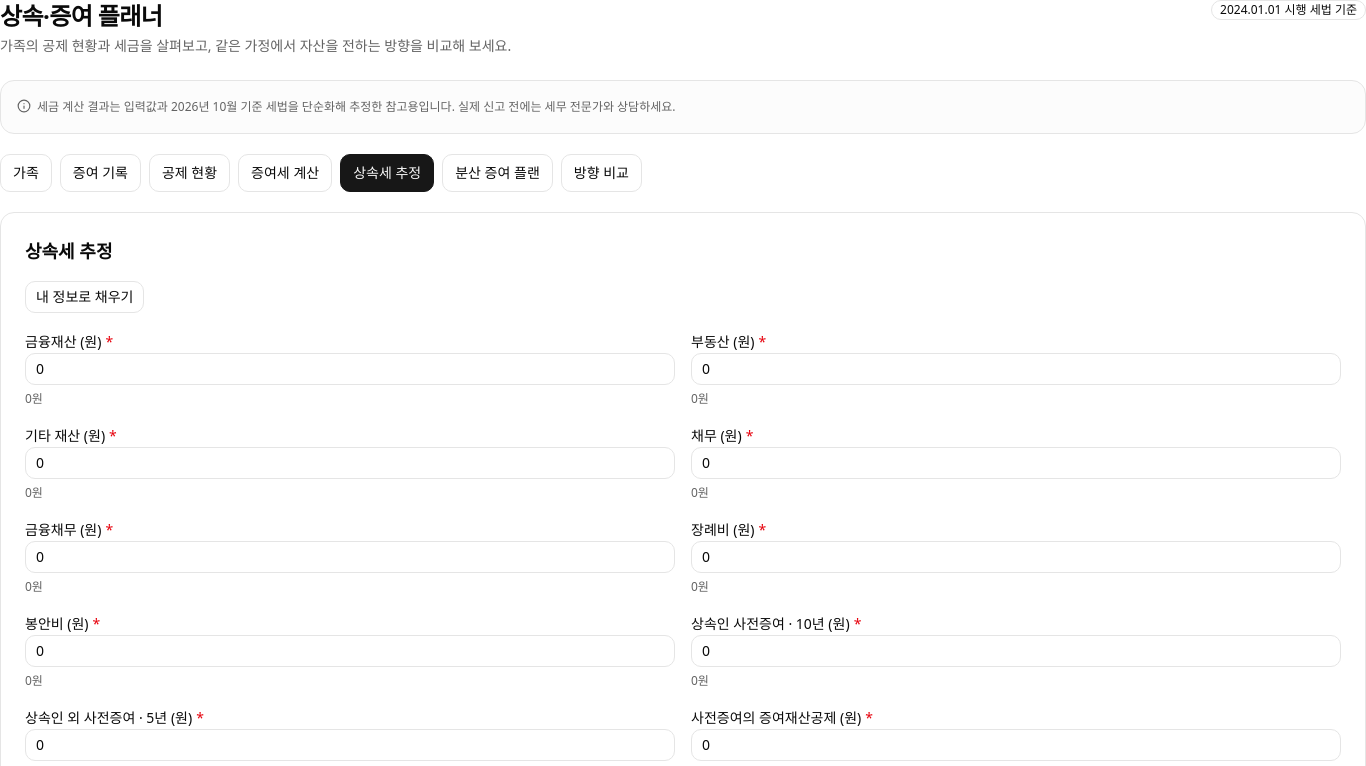
Test: 사전증여가 있는 상속세 사전 채움과 계산 요청
Click the button "내 정보로 채우기": (85, 296) [25, 280, 144, 312]
(page scrolled)
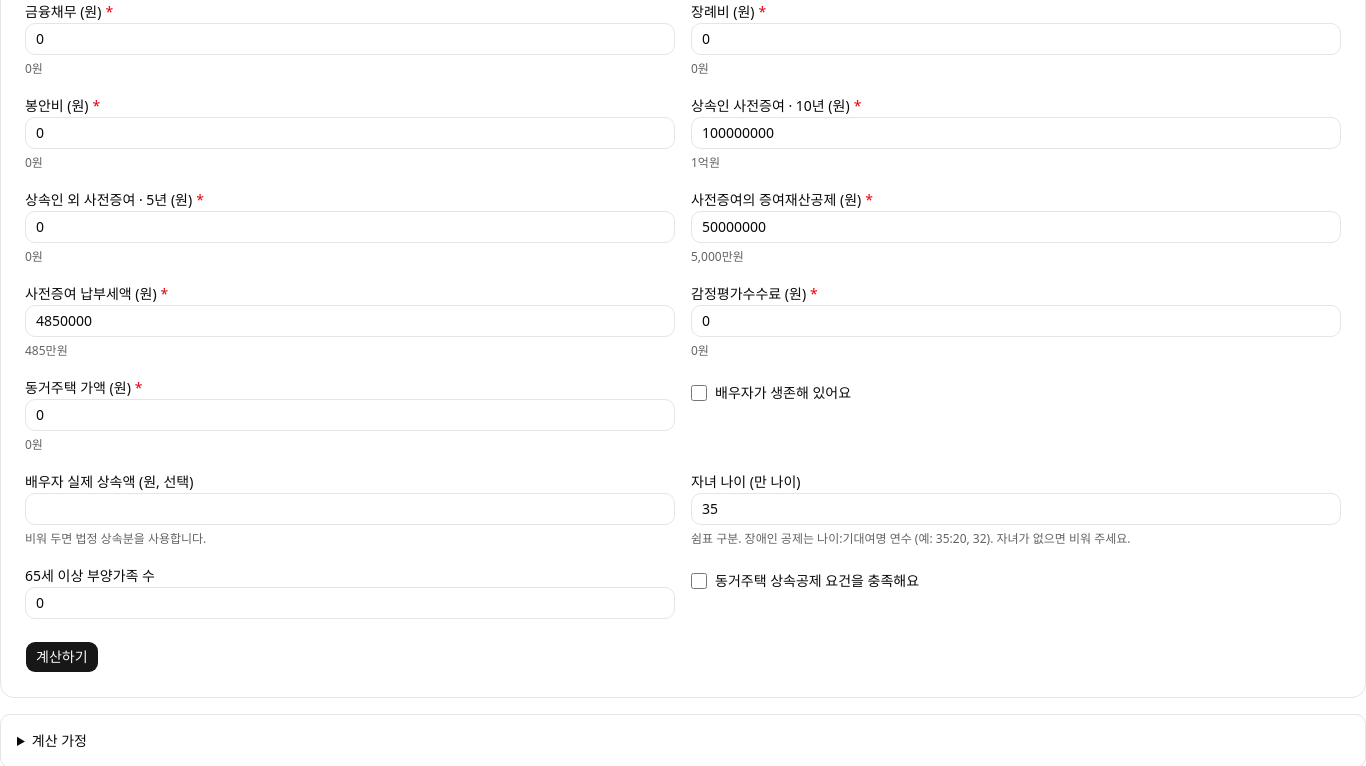
Expected: the number field labelled "상속인 외 사전증여 · 5년 (원)*" holds "0", [25, 210, 675, 242]
Expected: the number field labelled "상속인 사전증여 · 10년 (원)*" holds "100000000", [691, 116, 1341, 148]
Click the button "계산하기": (62, 656) [25, 640, 98, 672]
(page scrolled)
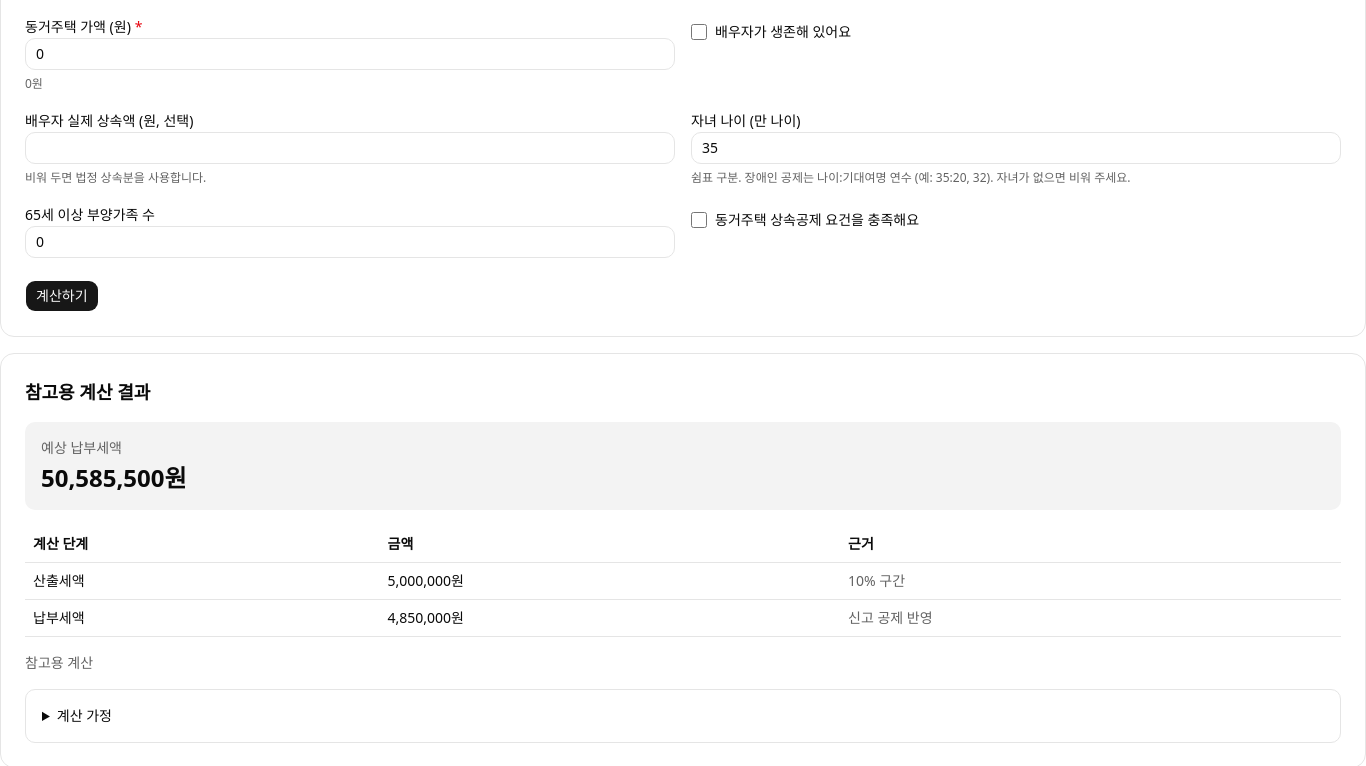
Expected: the text "50,585,500원" is shown, [41, 460, 187, 494]
